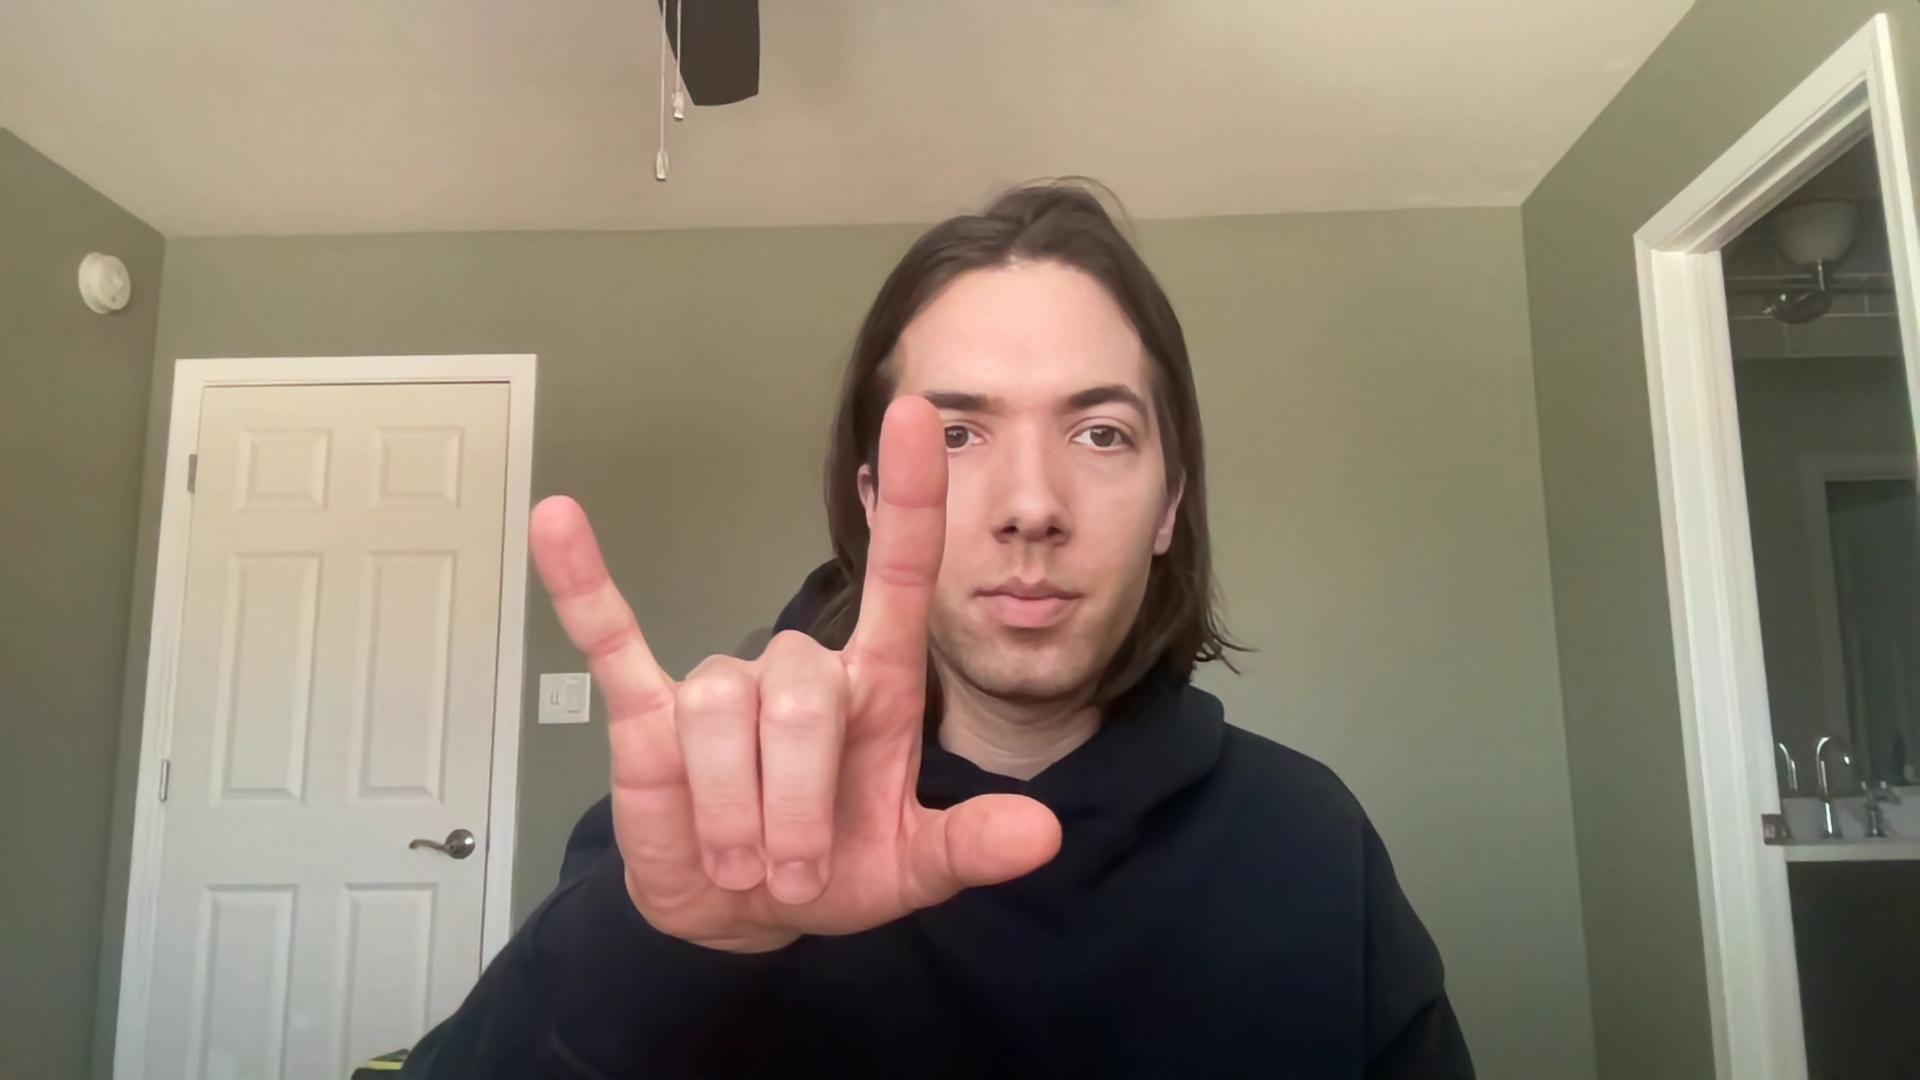I Love You: (508, 382, 1083, 964)
